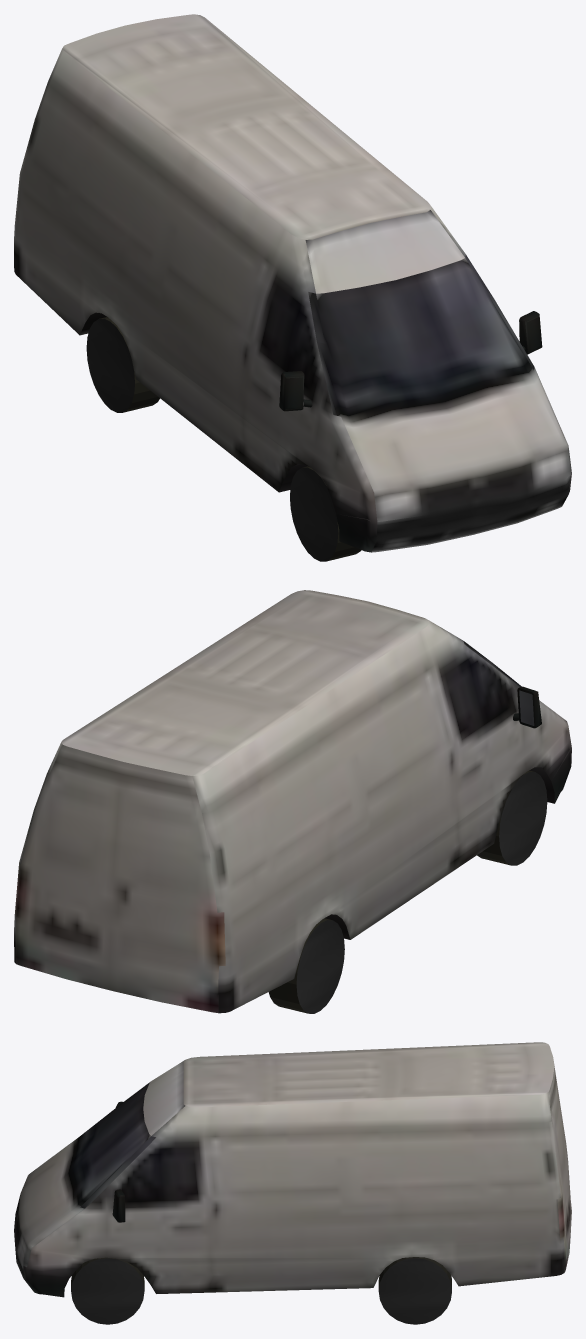
File: n_furgao.glb
The picture shows the model from 3 angles, top to bottom: view 1: azimuth 30°, elevation 25°; view 2: azimuth 150°, elevation 25°; view 3: azimuth 270°, elevation 25°; orthographic projection. The views are drawn at different scales.
Parts seen in each view (by area): view 1: Car_g2_0, wheel_rr, wheel_fr; view 2: Car_g2_0, wheel_rr, wheel_fr; view 3: Car_g2_0, wheel_rl, wheel_fl.
Part boxes in pixels (box(x1,y1,x2,y2)): Car_g2_0: box(14, 14, 571, 552); wheel_rr: box(86, 317, 159, 412); wheel_fr: box(290, 466, 361, 561); Car_g2_0: box(14, 590, 571, 1013); wheel_rr: box(268, 918, 344, 1013); wheel_fr: box(477, 770, 547, 865); Car_g2_0: box(14, 1042, 571, 1297); wheel_rl: box(378, 1257, 451, 1324); wheel_fl: box(71, 1257, 144, 1324).
Bounding box in the file's own units: 2.15 × 2.3 × 5.28.
2 materials, 1 textured.
